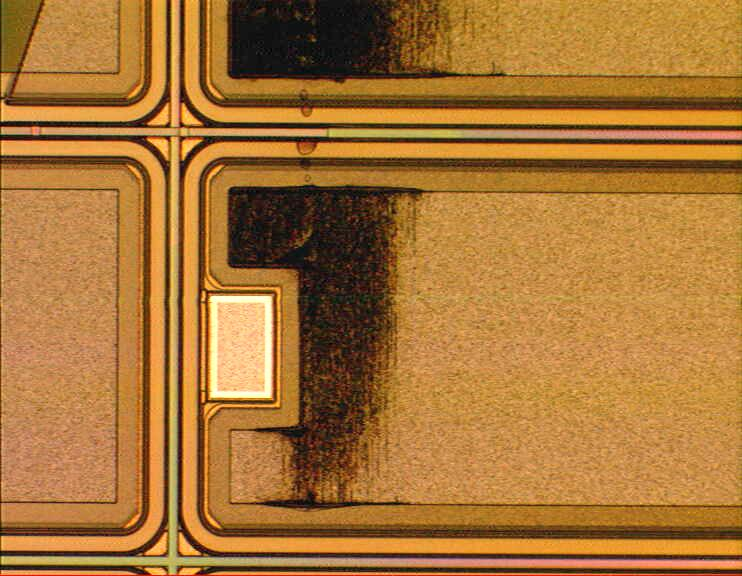SEZ BURNT: (227, 1, 513, 507)
